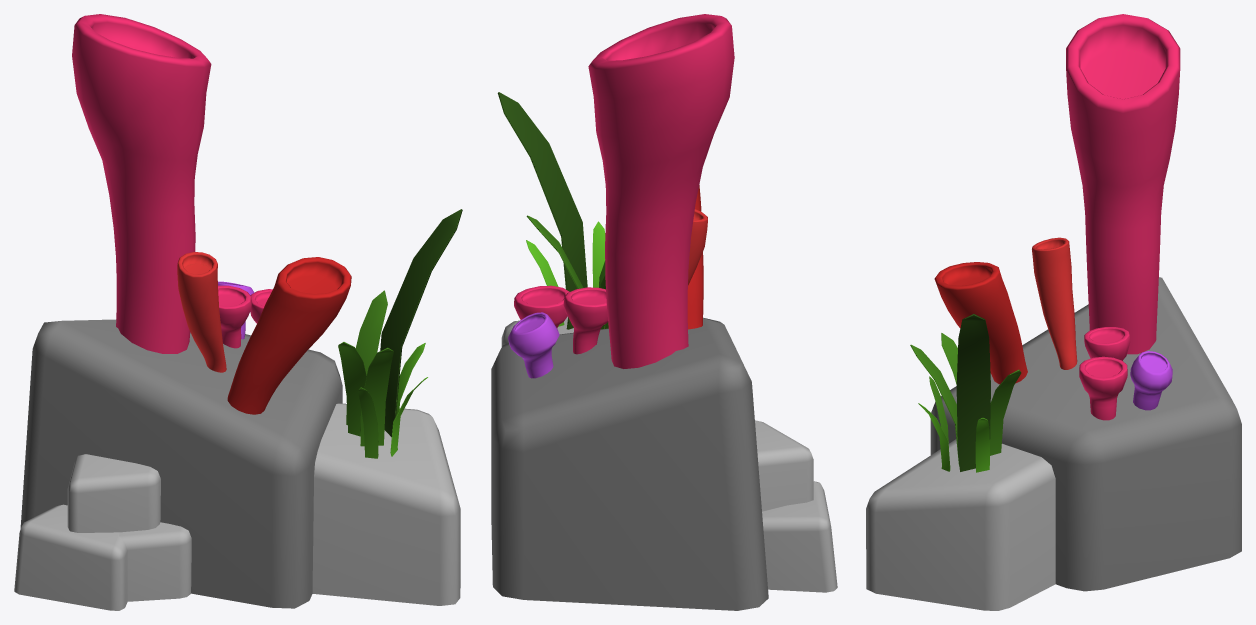
File: SM_Coral_002.fbx
3 renders of one model, left to right at view 1: azimuth 30°, elevation 25°; view 2: azimuth 150°, elevation 25°; view 3: azimuth 270°, elevation 25°, orthographic. The views are drawn at different scales.
Parts seen in each view (by area): view 1: pPlane8; view 2: pPlane8; view 3: pPlane8.
Boxes of the visible parts, bbox=[...] form: pPlane8: bbox=[14, 14, 462, 610]; pPlane8: bbox=[491, 14, 837, 610]; pPlane8: bbox=[866, 14, 1241, 610].
Size of the model in its own units: 297 by 388 by 278.
1 material, 1 textured.
